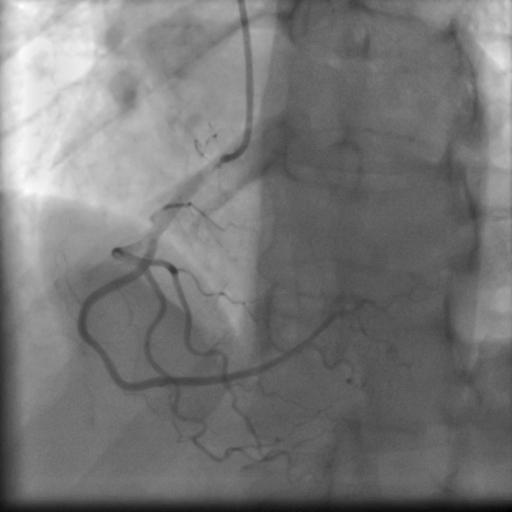Stenosis: (89, 332, 115, 380)
